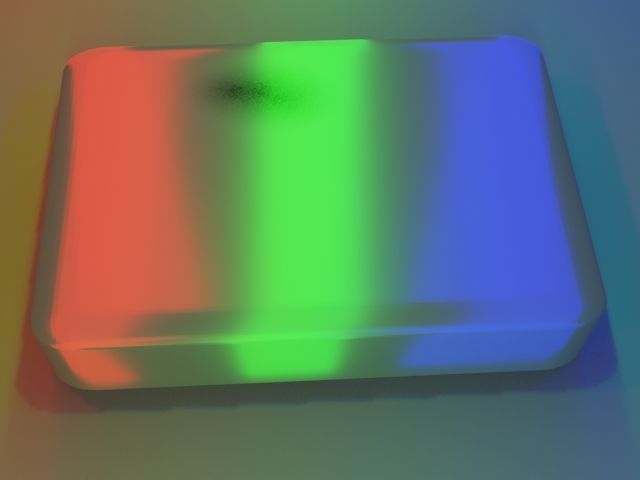stain: (140, 18, 364, 131)
